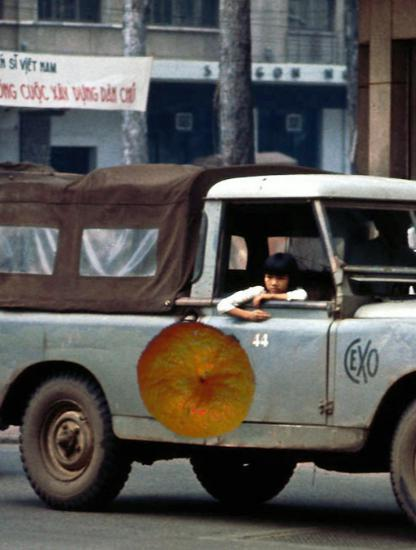Mandarine: (135, 316, 263, 444)
